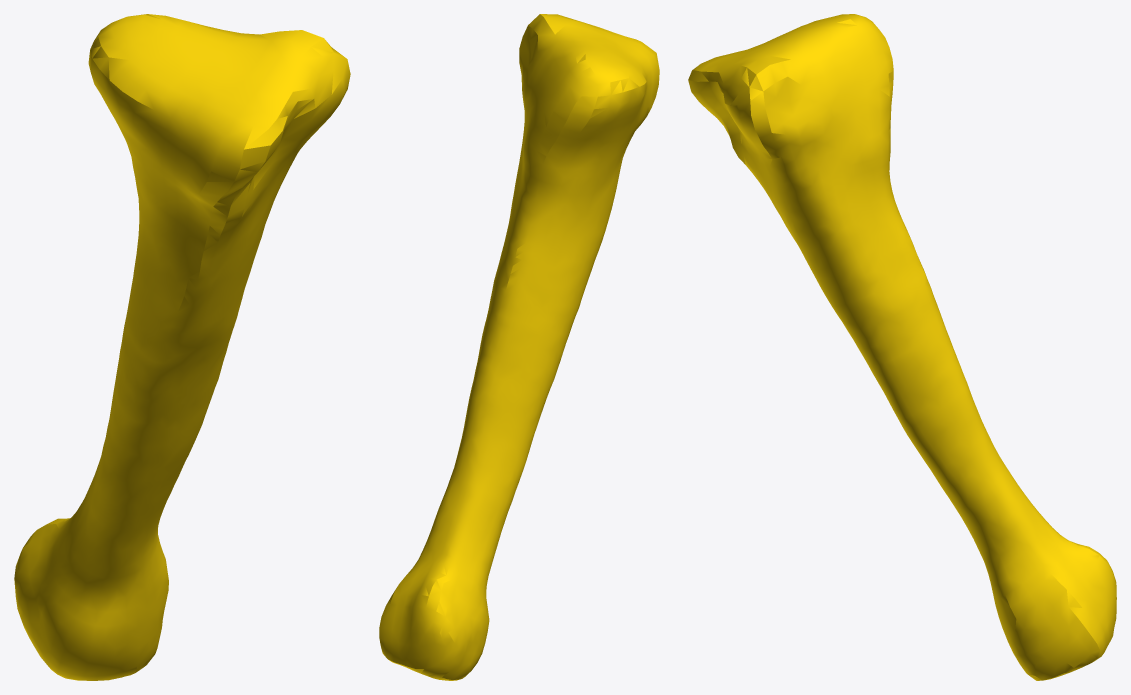
File: Metatarsal_2.obj
The picture shows the model from 3 angles, left to right: view 1: azimuth 30°, elevation 25°; view 2: azimuth 150°, elevation 25°; view 3: azimuth 270°, elevation 25°; orthographic projection. The views are drawn at different scales.
Visible parts, largest first — view 1: Object_0Metatarsal_2; view 2: Object_0Metatarsal_2; view 3: Object_0Metatarsal_2.
Part boxes in pixels (x1=…): Object_0Metatarsal_2: x1=14, y1=14, x2=350, y2=680; Object_0Metatarsal_2: x1=379, y1=14, x2=659, y2=680; Object_0Metatarsal_2: x1=688, y1=14, x2=1116, y2=680.
Bounding box in the file's own units: 21.19 × 78.38 × 49.05.
